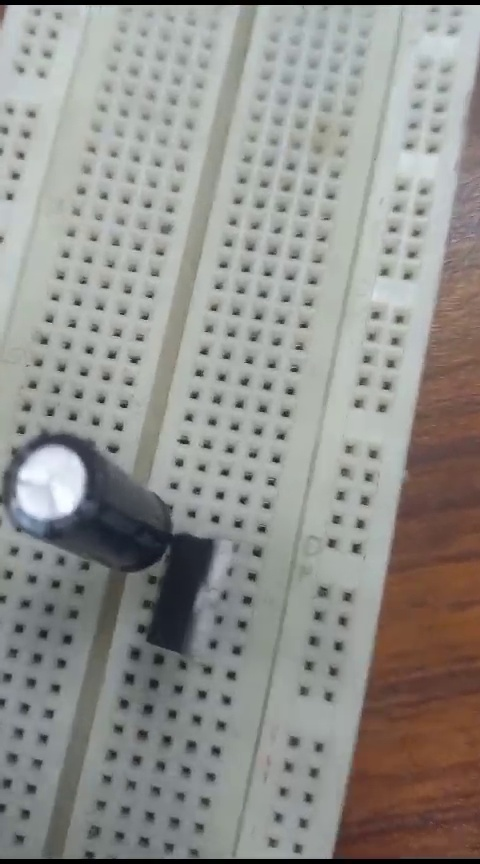capacitor: (2, 427, 172, 577)
voltage regulator: (151, 529, 234, 660)
